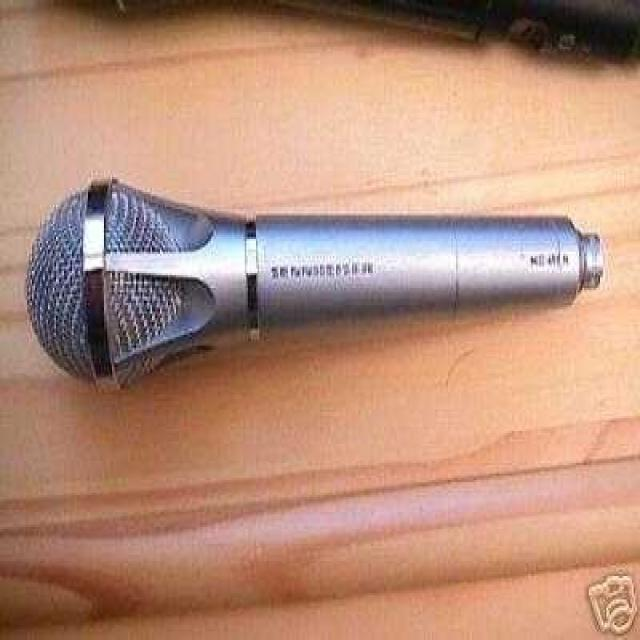microphone: (26, 176, 596, 386)
